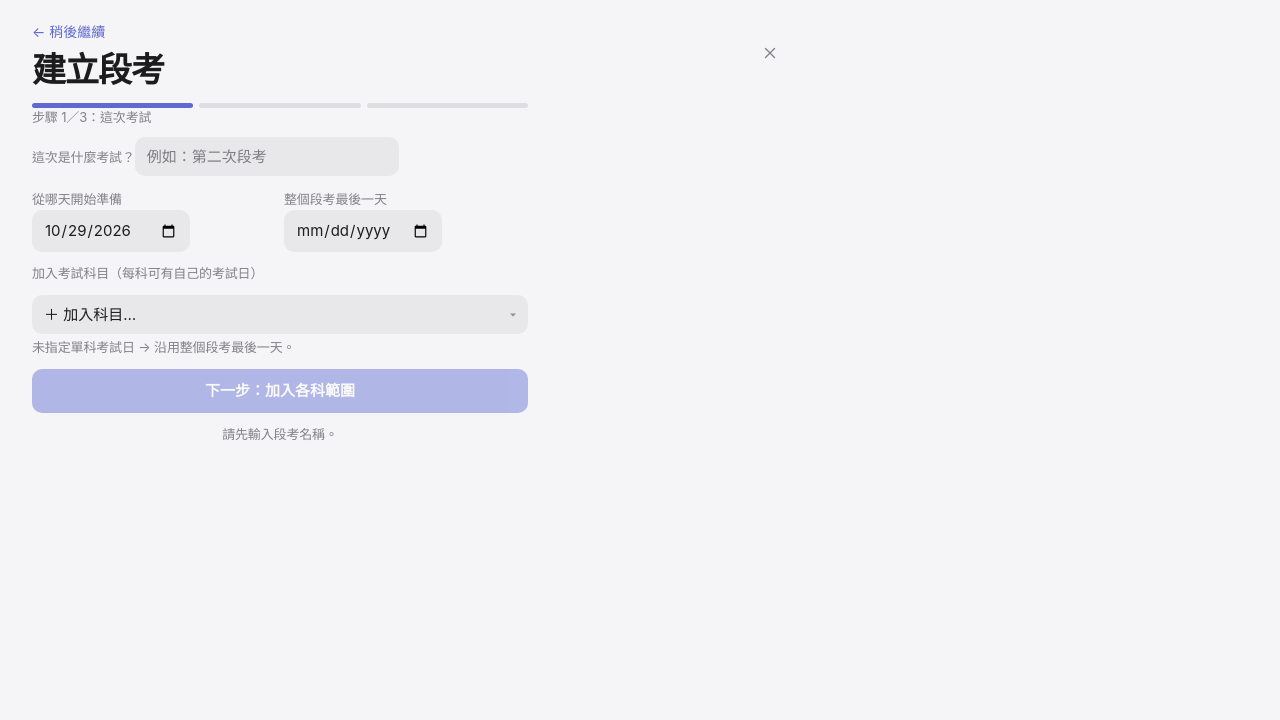
Test: 段考教材載入失敗恢復 › 書櫃 API 失敗時顯示重試，不誤稱這科沒有教材
Type "第二次段考" into the field named "段考名稱" at (267, 156), box [135, 137, 399, 176]
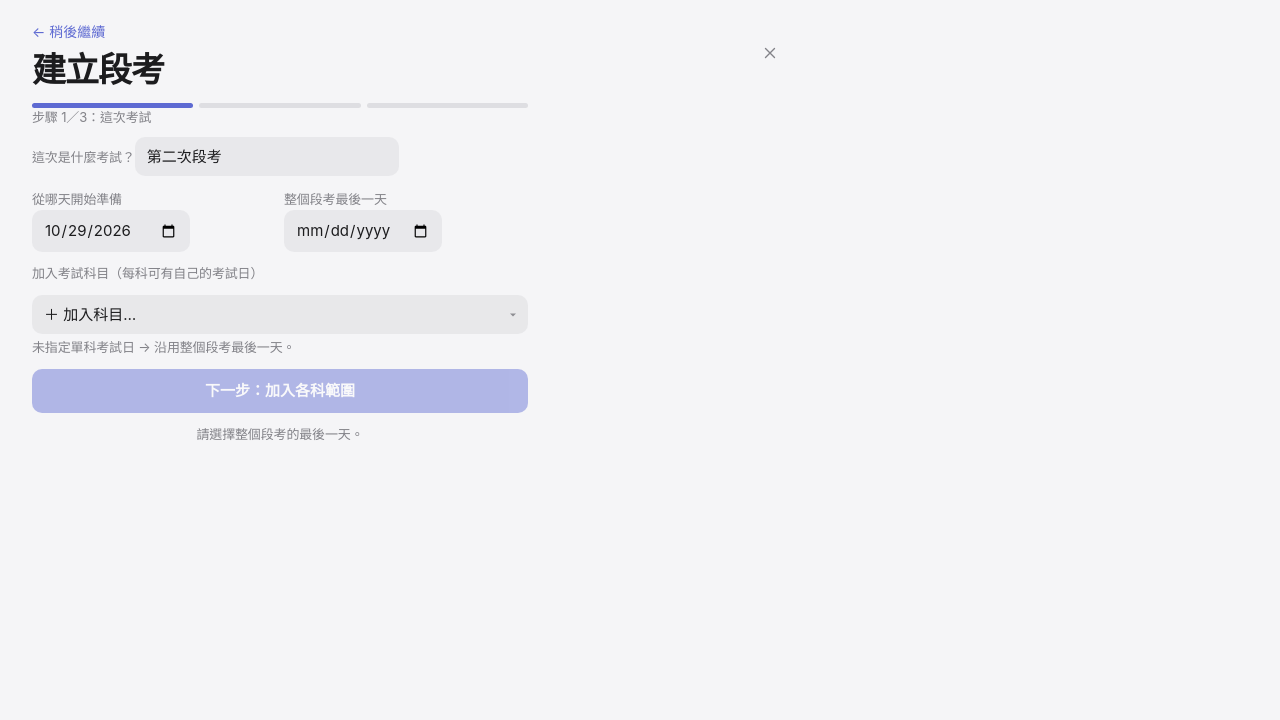
Type "2099-10-02" into the date field named "段考結束日期" at (363, 231), box [284, 210, 442, 252]
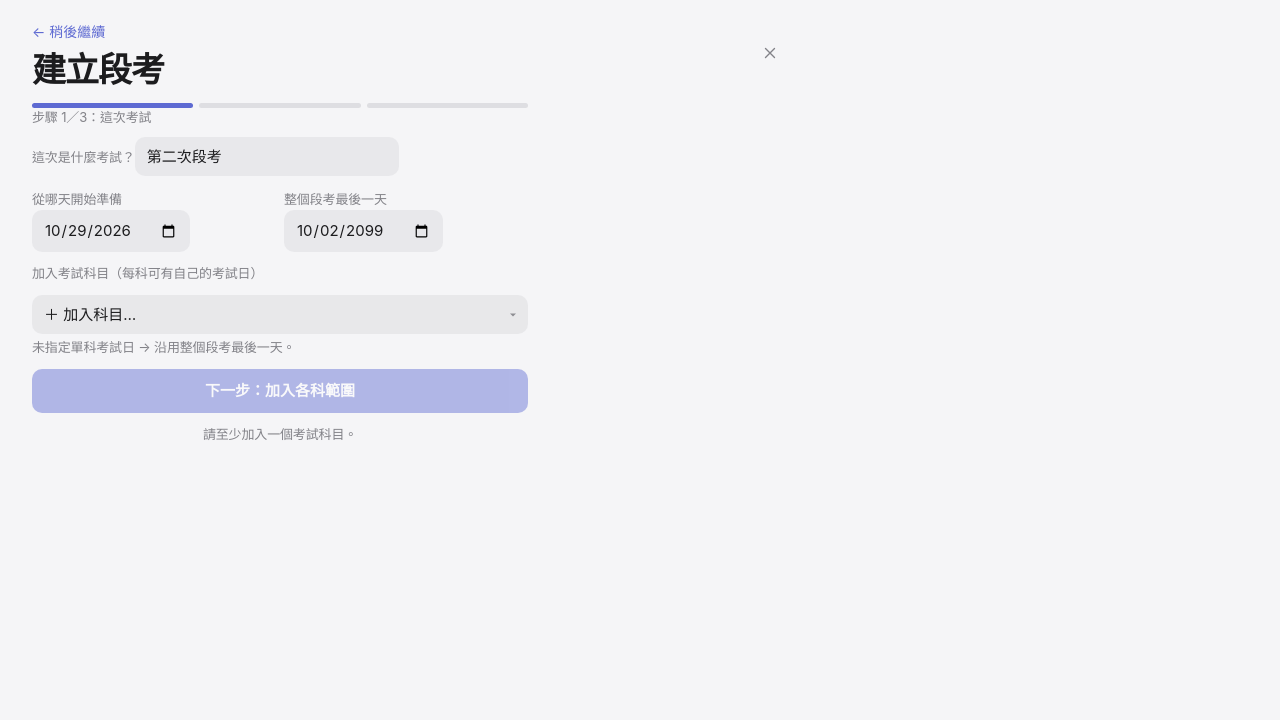
Select "數學" in the dropdown named "加入科目" at (280, 315), box [32, 295, 528, 334]
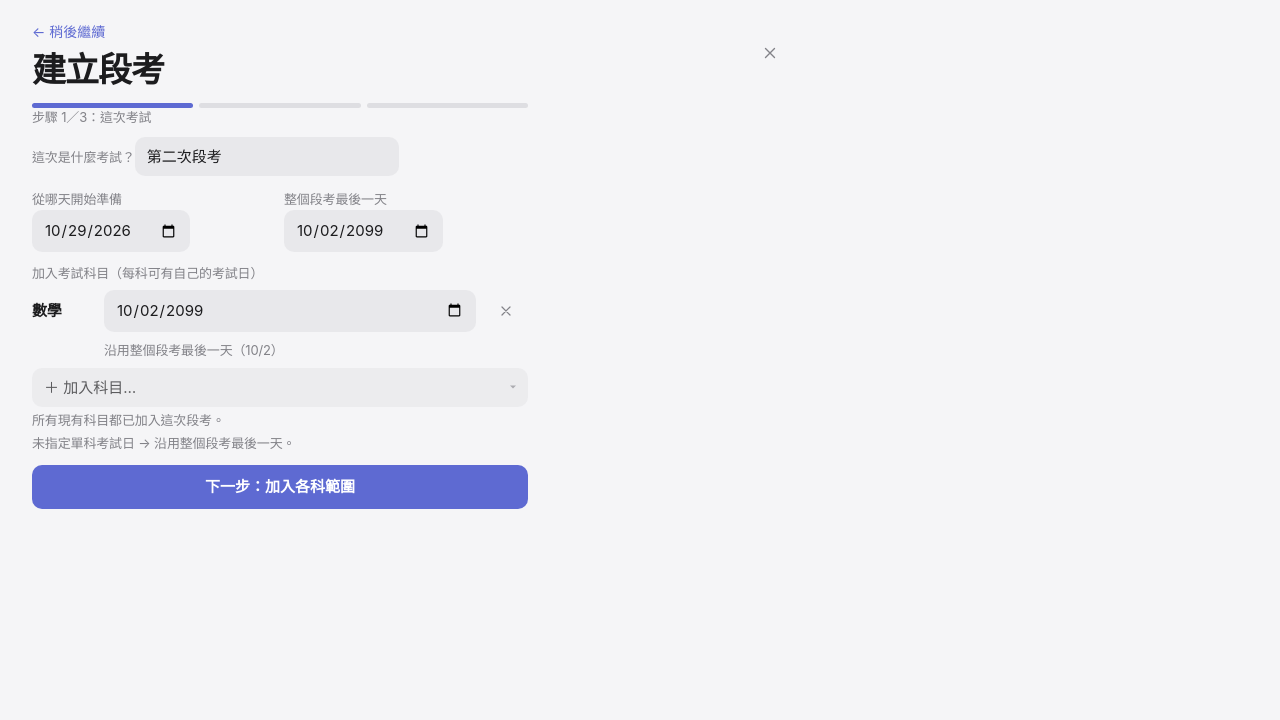
Click the button "下一步：加入各科範圍" at (280, 487), box [32, 465, 528, 509]
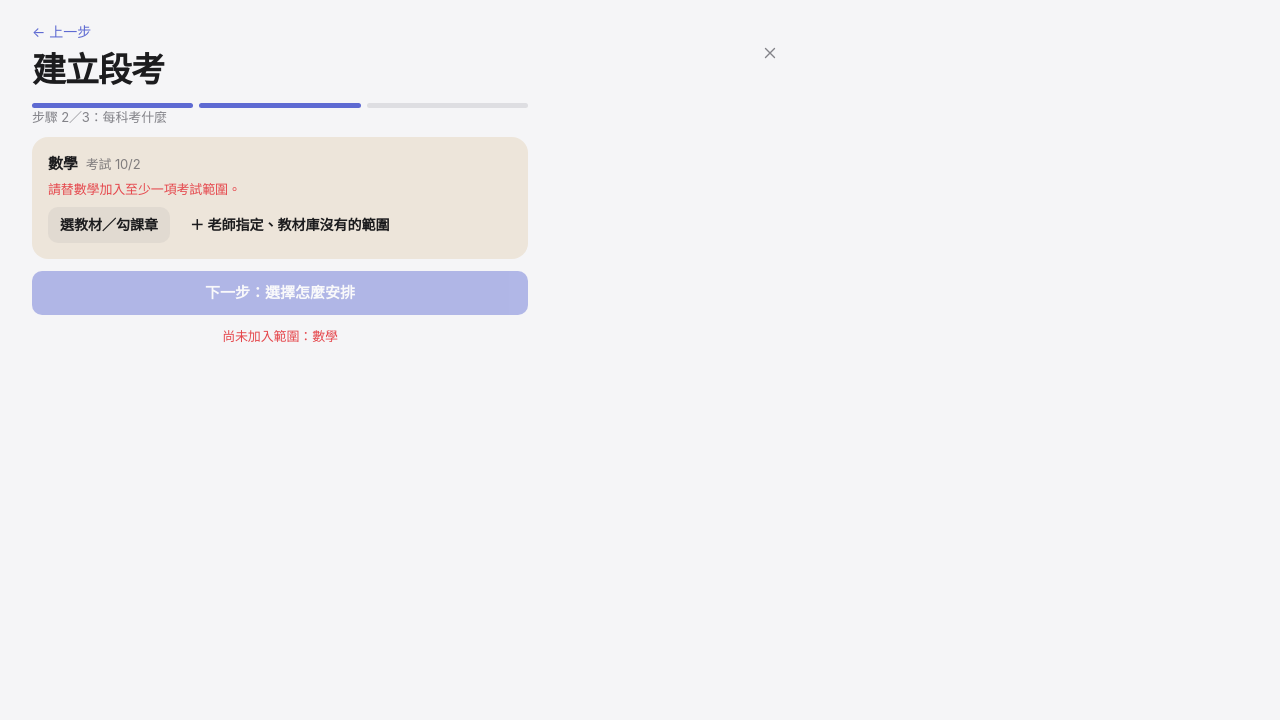
Click the button "選教材／勾課章" at (109, 225), box [48, 207, 170, 243]
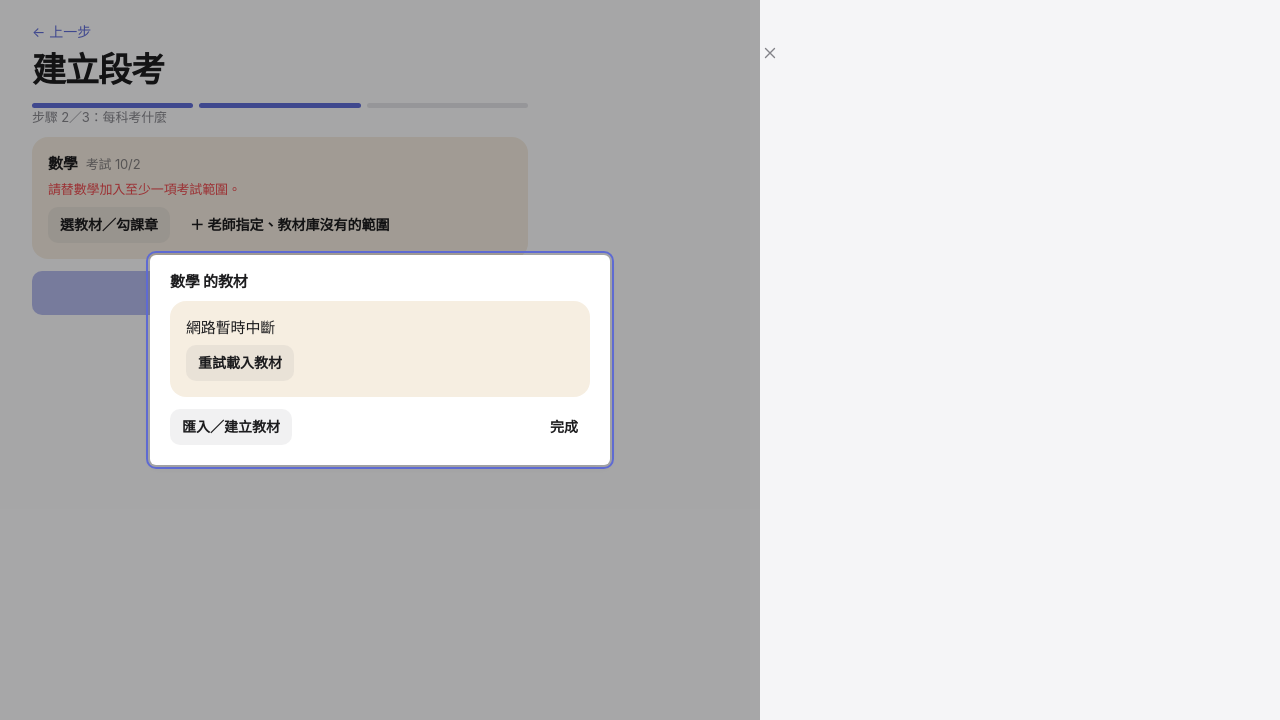
Expected: the text "網路暫時中斷" is shown, [186, 318, 275, 337]
Click the button "重試載入教材" at (240, 363), box [186, 345, 294, 381]
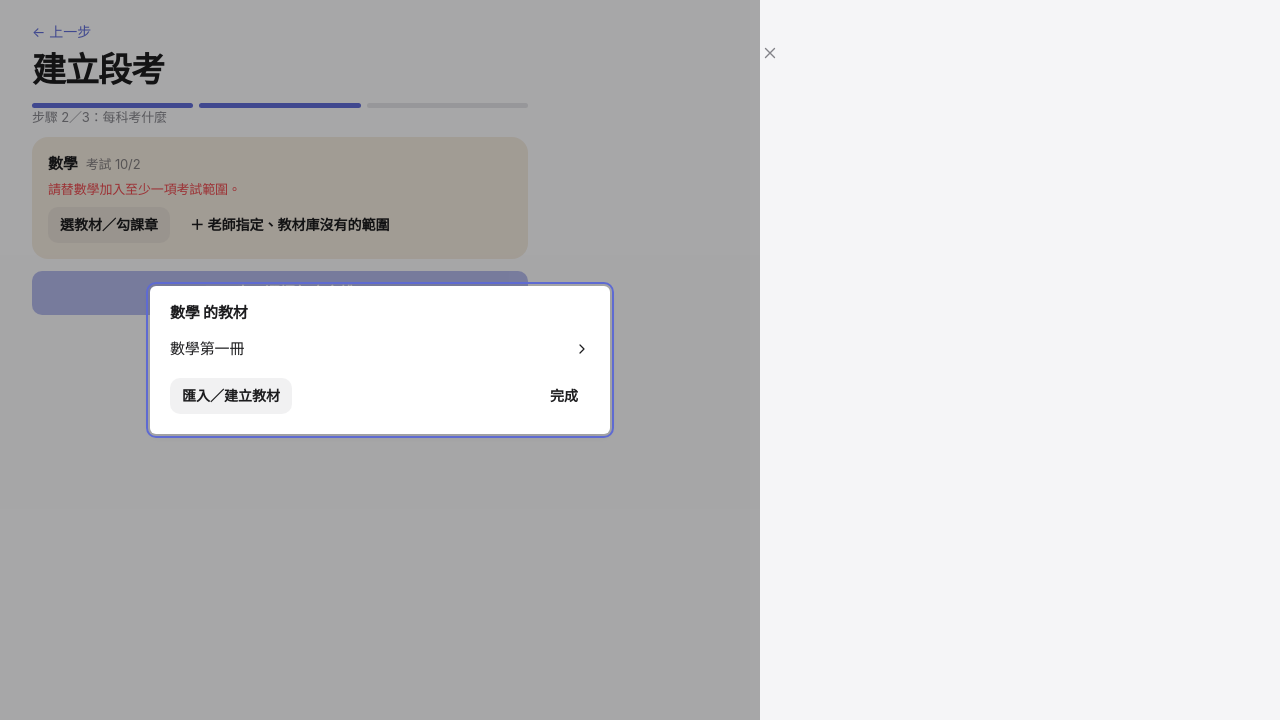
Expected: the text "數學第一冊" is shown, [170, 338, 244, 360]
